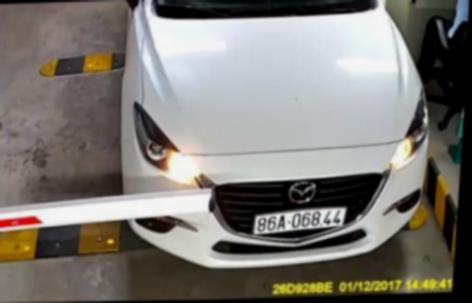License_Plate: (248, 205, 353, 237)
